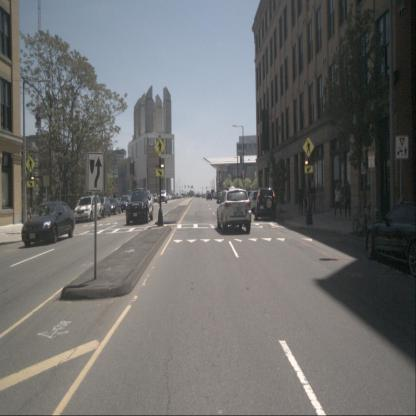human-pedestrian-adult: (394, 187, 404, 240), (334, 183, 344, 221), (344, 181, 352, 221), (297, 184, 304, 214), (310, 180, 316, 213), (303, 184, 309, 214), (113, 192, 117, 210)
vehicle-bicycle: (352, 204, 376, 237)
vehicle-car: (365, 204, 416, 278), (21, 201, 76, 247), (216, 188, 252, 234), (75, 195, 102, 223), (255, 187, 276, 221), (92, 196, 112, 218), (248, 190, 264, 214), (105, 198, 122, 215), (119, 194, 133, 212), (158, 190, 168, 204), (152, 193, 158, 202), (217, 192, 223, 200), (218, 192, 224, 200), (206, 192, 212, 200), (164, 193, 169, 200)
